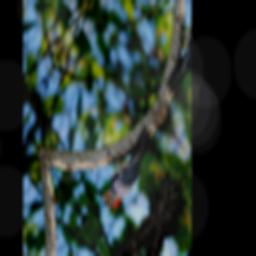Woodpecker: (91, 102, 158, 222)
